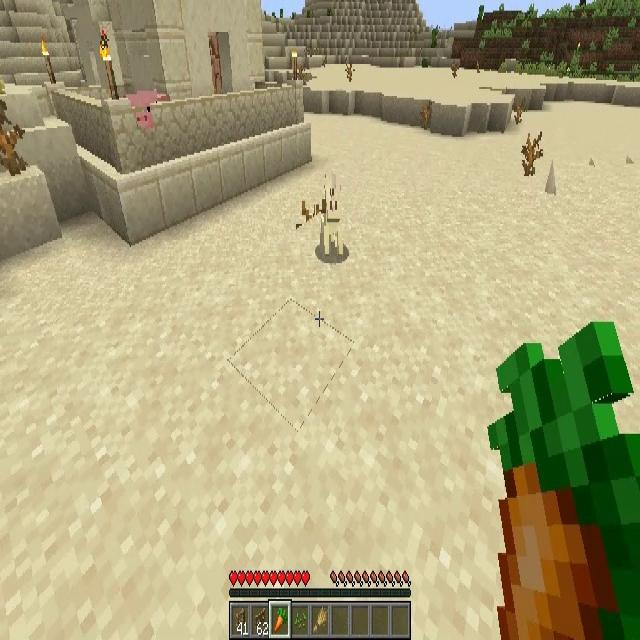pig: (125, 96, 151, 129)
rabbit: (321, 180, 342, 260)
